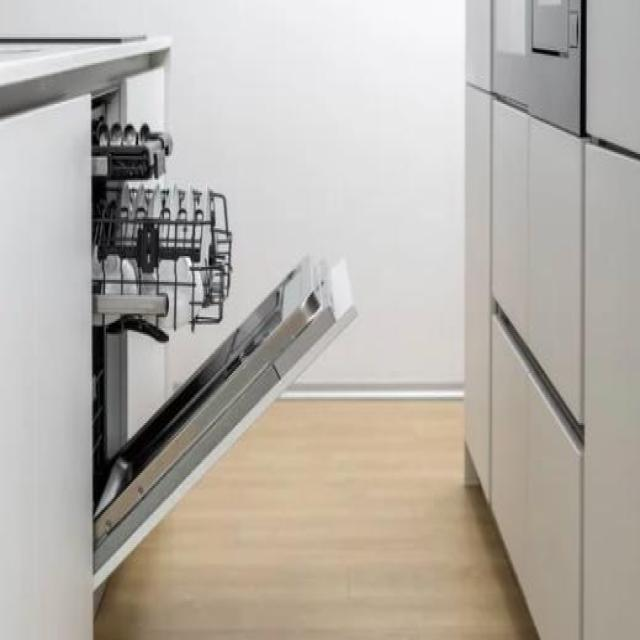dishwasher: (84, 84, 364, 606)
